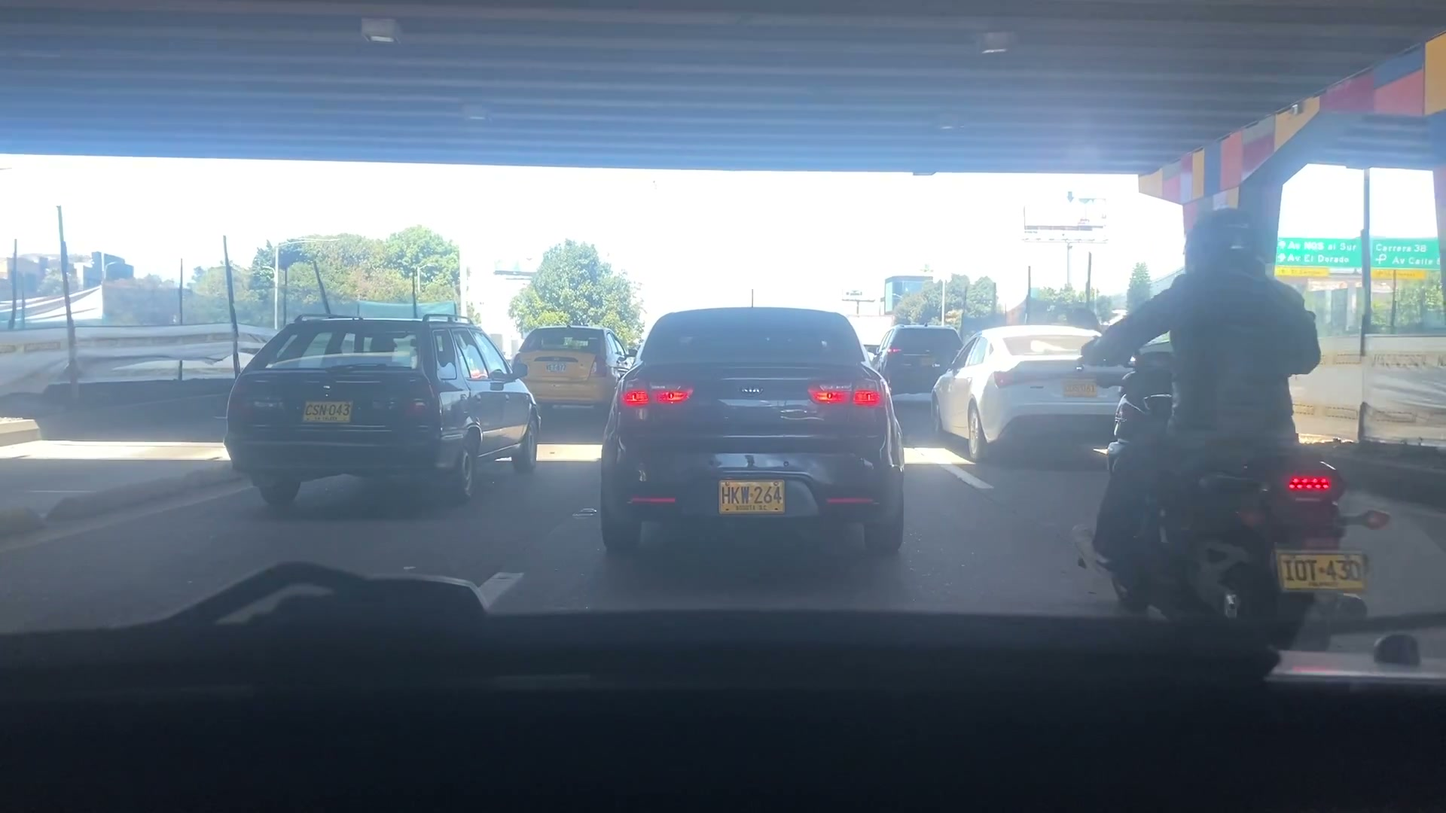car: (598, 305, 907, 557), (226, 313, 540, 512), (934, 324, 1134, 458), (514, 327, 639, 412), (874, 325, 965, 394)
motorcycle: (1083, 348, 1393, 647)
person: (1107, 208, 1321, 573)
